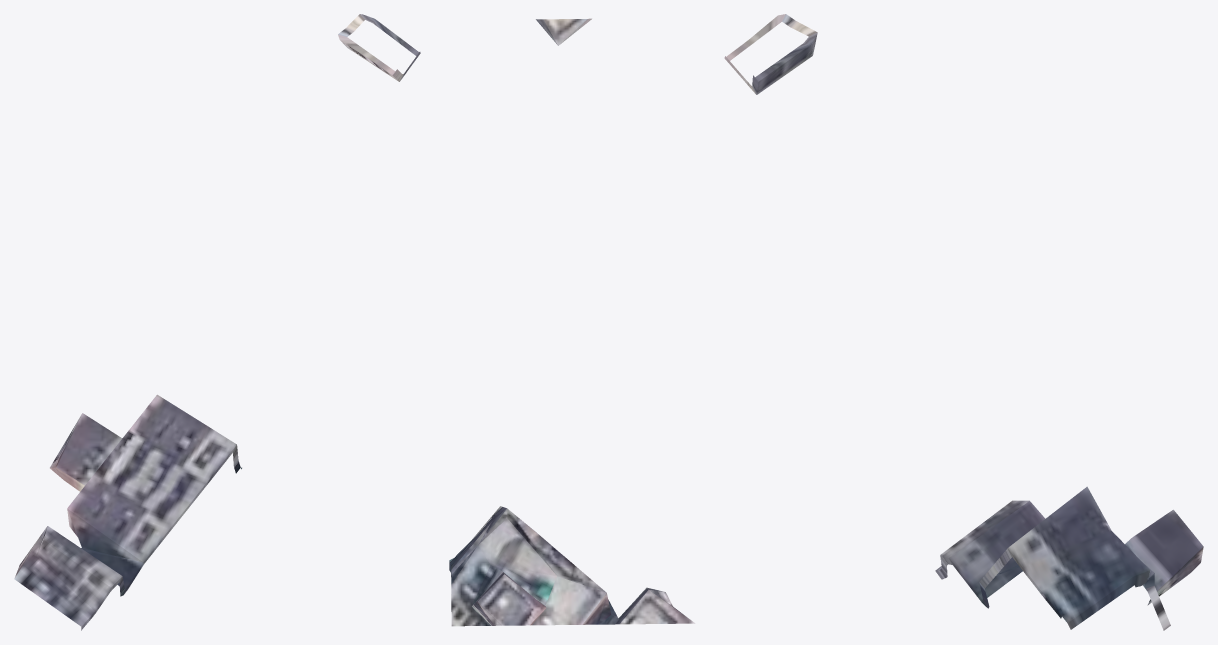
3 renders of one model, left to right at view 1: azimuth 30°, elevation 25°; view 2: azimuth 150°, elevation 25°; view 3: azimuth 270°, elevation 25°, orthographic. The views are drawn at different scales.
Bounding box in the file's own units: 37.29 × 73.2 × 47.63.
Materials: 1 (1 with a texture image).
